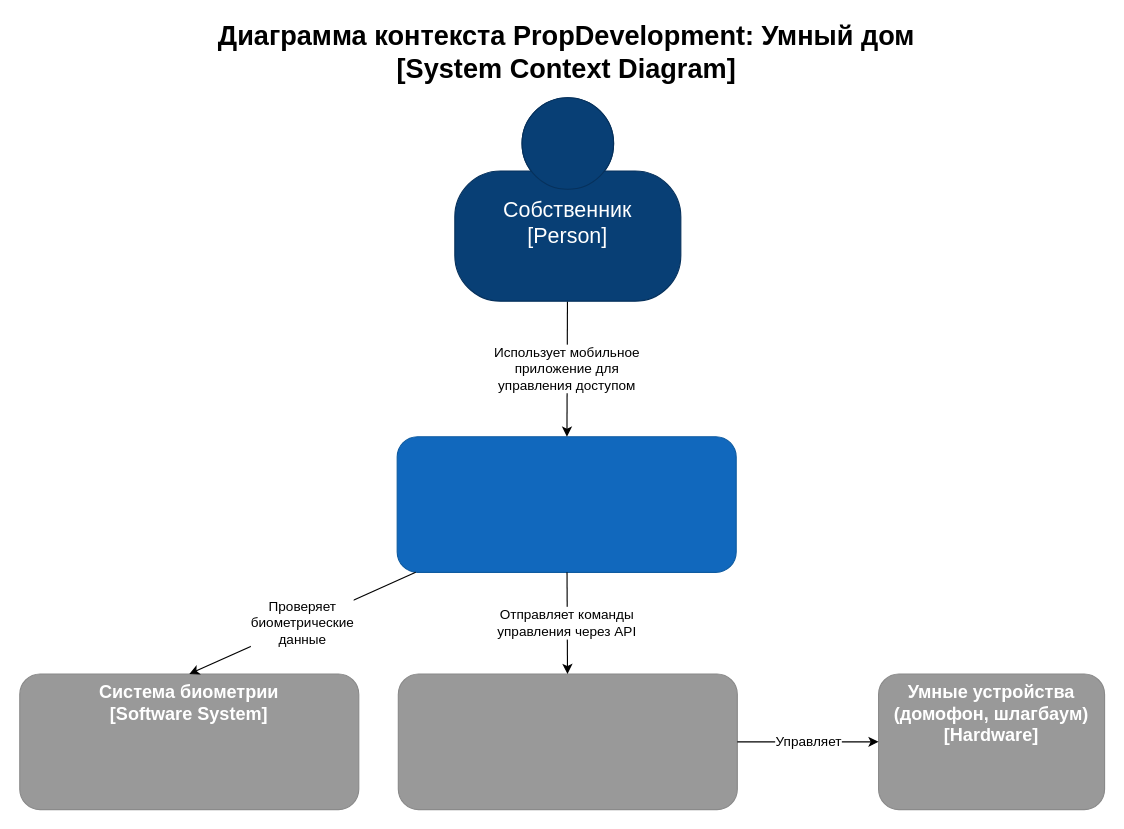
Some shapes in this 1124 by 829 pixel diagram are drawn without their labels. The shapes that lost their labels are listed below. From the top down, each one's centre as x and y in pixels, then its label:
At point 566,504: "PropDevelopment Система управления умным домом [Software System]".
At point 567,741: "Партнерская платформа умного дома [Software System]".
